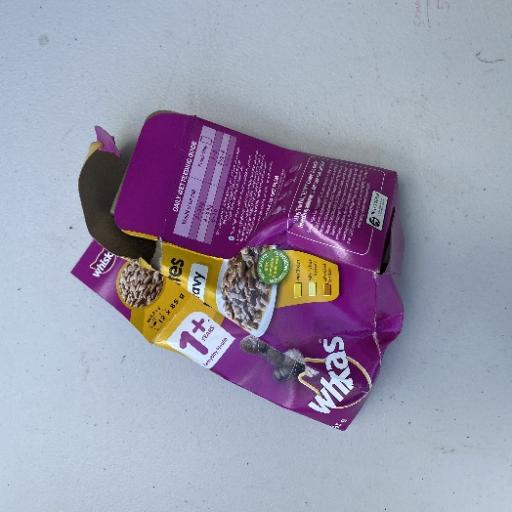Cardboard: (70, 107, 408, 432)
